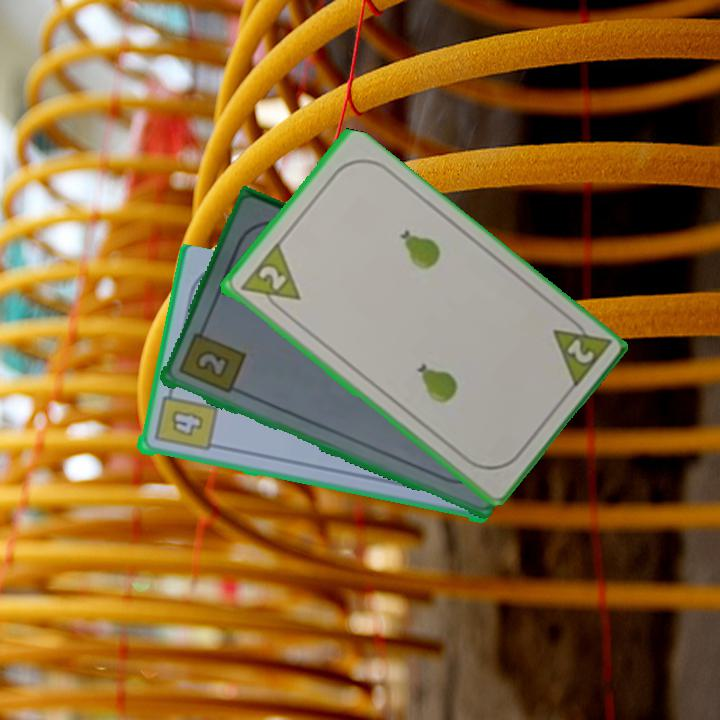2b: (174, 322, 248, 397)
2p: (548, 310, 613, 393), (236, 241, 303, 319)
4b: (150, 384, 219, 455)
